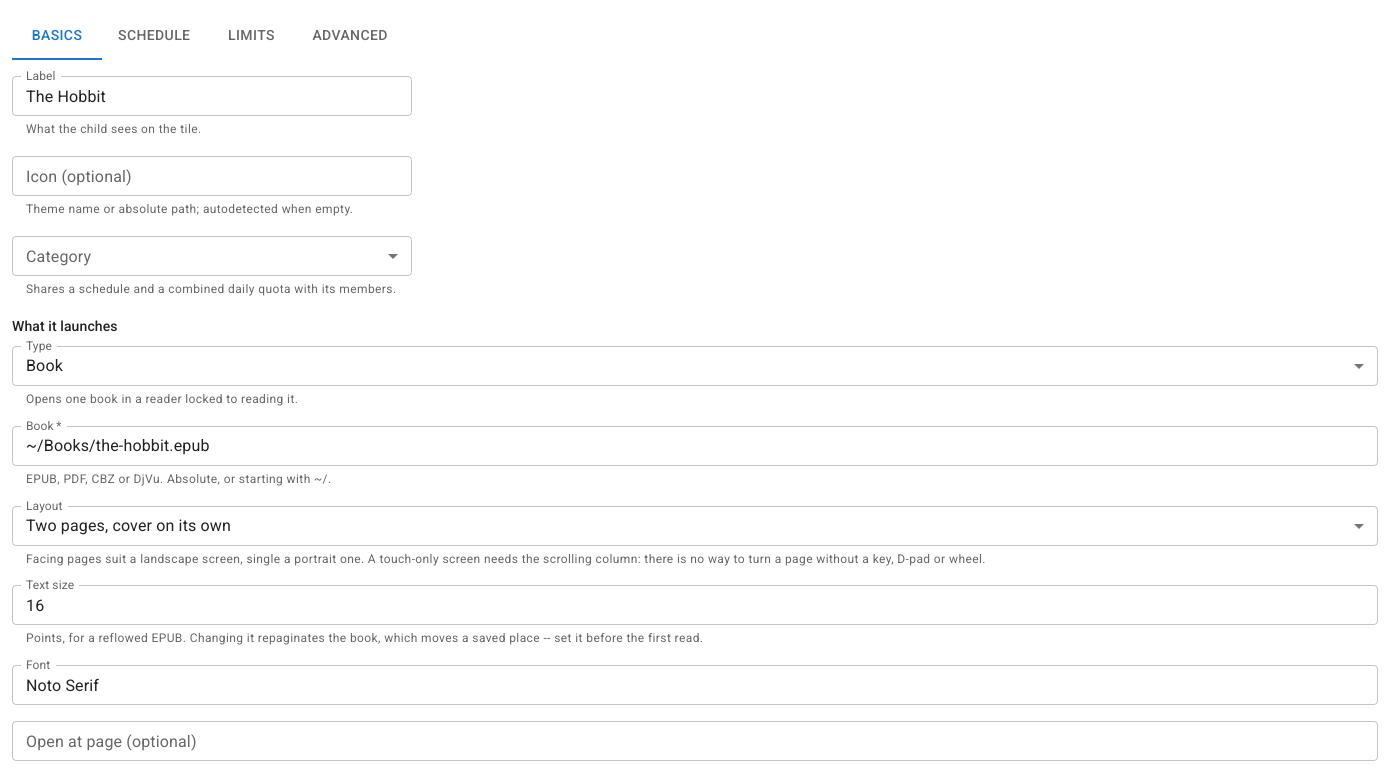
Test: typing into a path field › shows the character without waiting for the document
In the field labelled "Book *": (695, 446) [12, 426, 1378, 466], type "xyz"
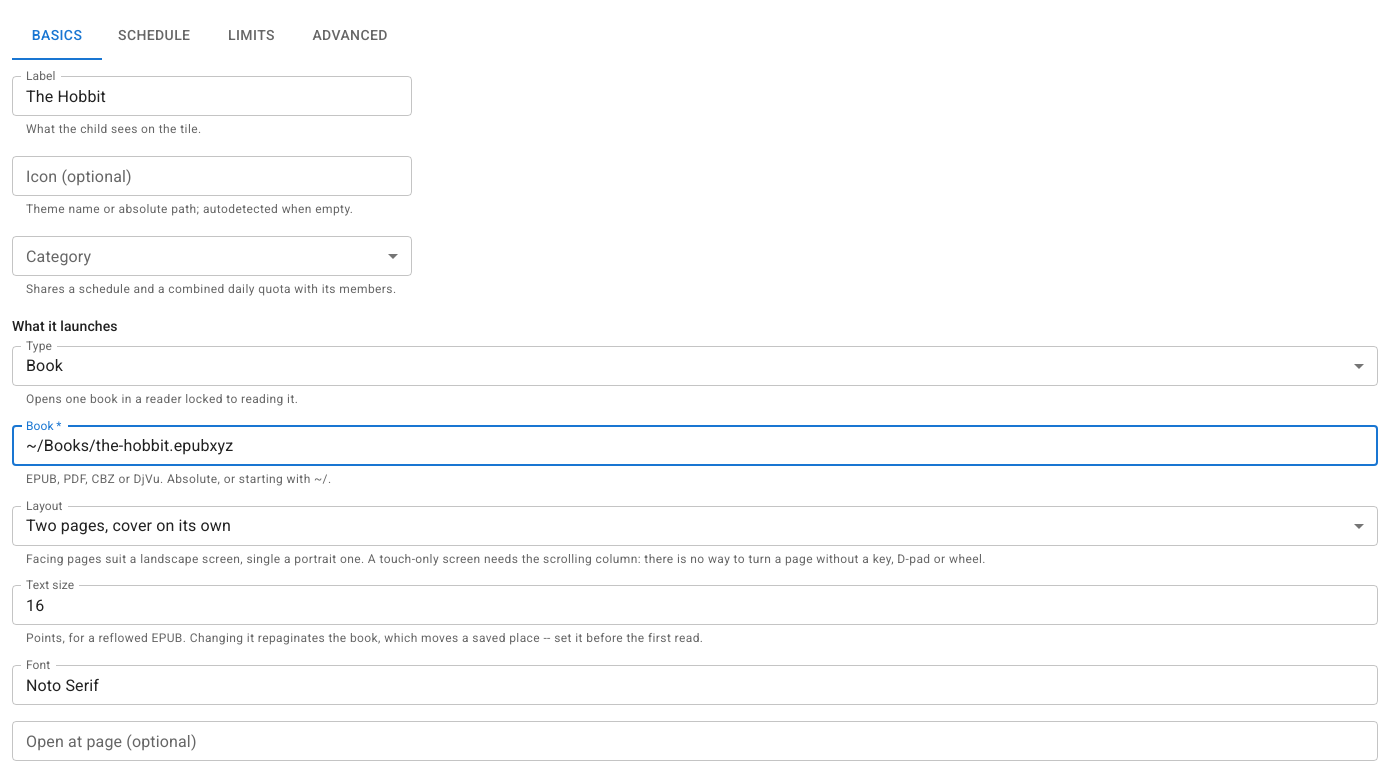
expect the field labelled "Book *" holds "~/Books/the-hobbit.epubxyz": met, box [12, 426, 1378, 466]
